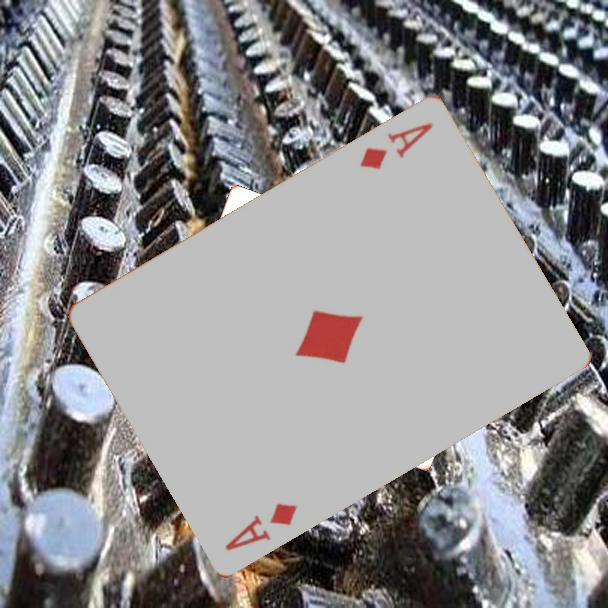d01: (221, 499, 301, 555), (356, 119, 436, 173)
